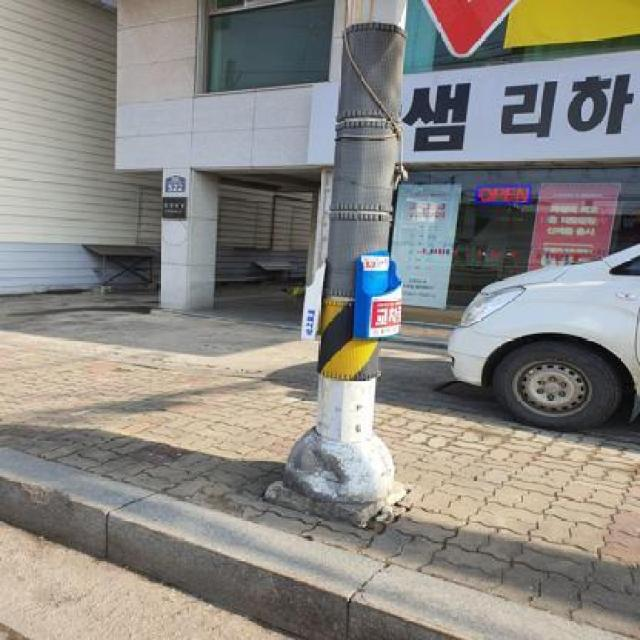pole: (278, 0, 418, 511)
